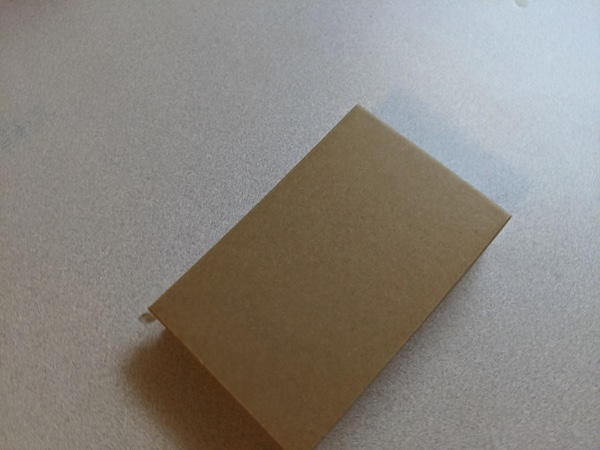cardboard: (118, 93, 531, 450)
